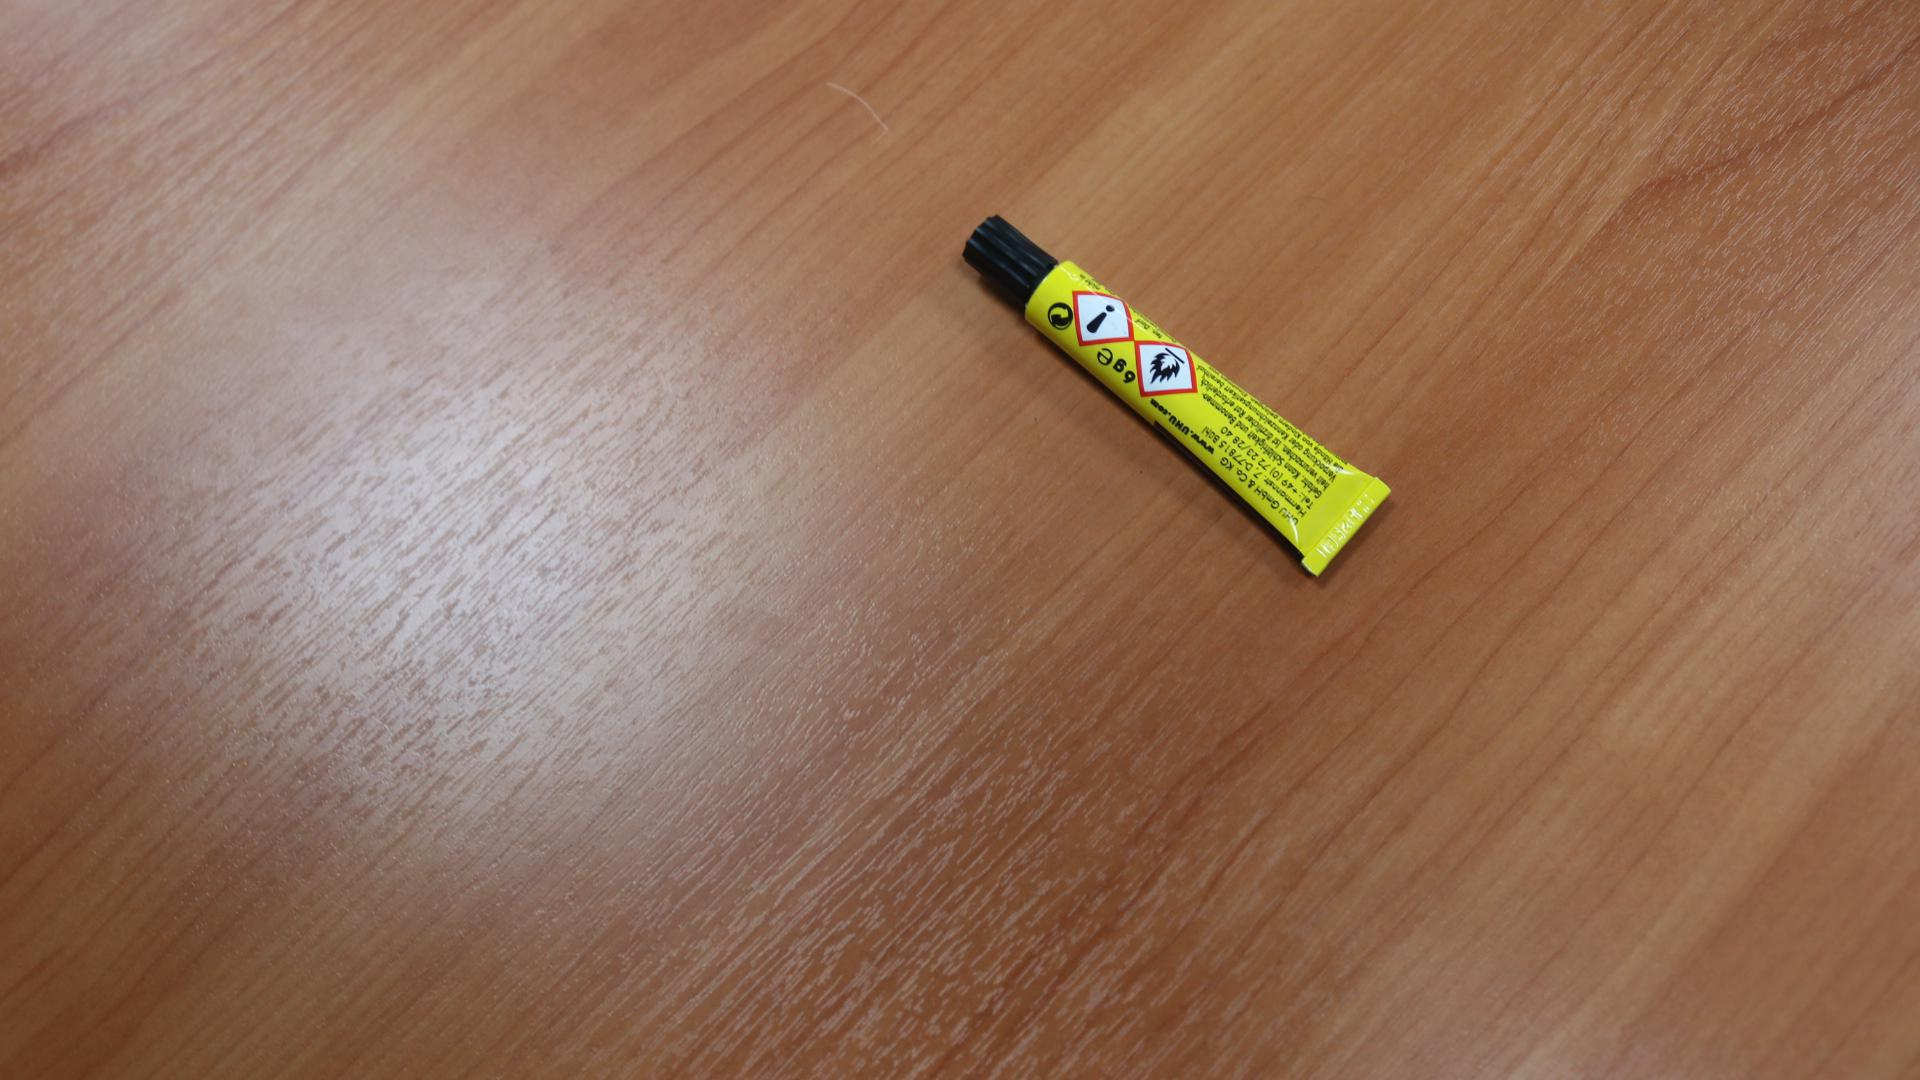Head: (1001, 248, 1015, 265)
Tail: (1340, 522, 1355, 539)
Tube: (962, 215, 1391, 581)
